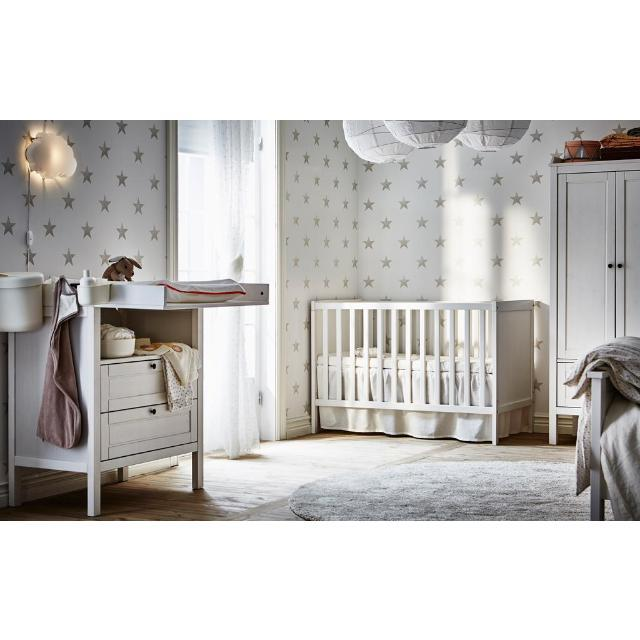bed: (565, 336, 640, 520)
dresser: (9, 282, 269, 516), (550, 158, 640, 442)
lamp: (26, 132, 76, 178)
light: (342, 119, 414, 163), (384, 120, 468, 148), (458, 119, 531, 150)
rug: (289, 462, 589, 520)
